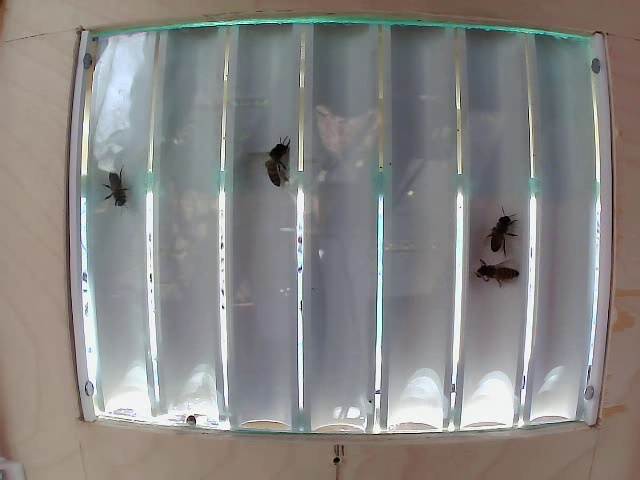bee: (270, 138, 312, 213), (473, 239, 519, 289), (482, 202, 518, 262), (102, 165, 135, 217)
